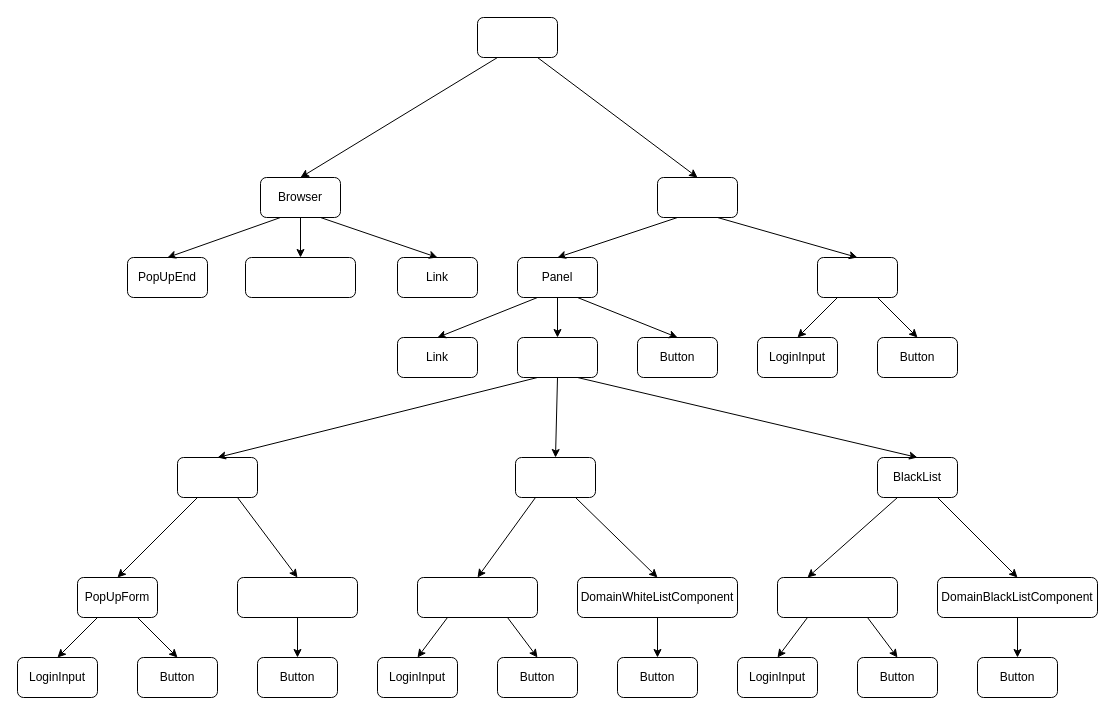
Some shapes in this 1115 by 715 pixel diagram are drawn without their labels. Each missing label, with the centre of its shape:
"AdminPanel" goes at [697,197].
"App" goes at [517,37].
"BlackListPopUpForm" goes at [837,597].
"Dashboard" goes at [217,477].
"DomainComponent" goes at [297,597].
"LoginForm" goes at [857,277].
"MainSection" goes at [557,357].
"PopUpBlackList" goes at [300,277].
"WhiteList" goes at [555,477].
"WhiteListPopUpForm" goes at [477,597].
